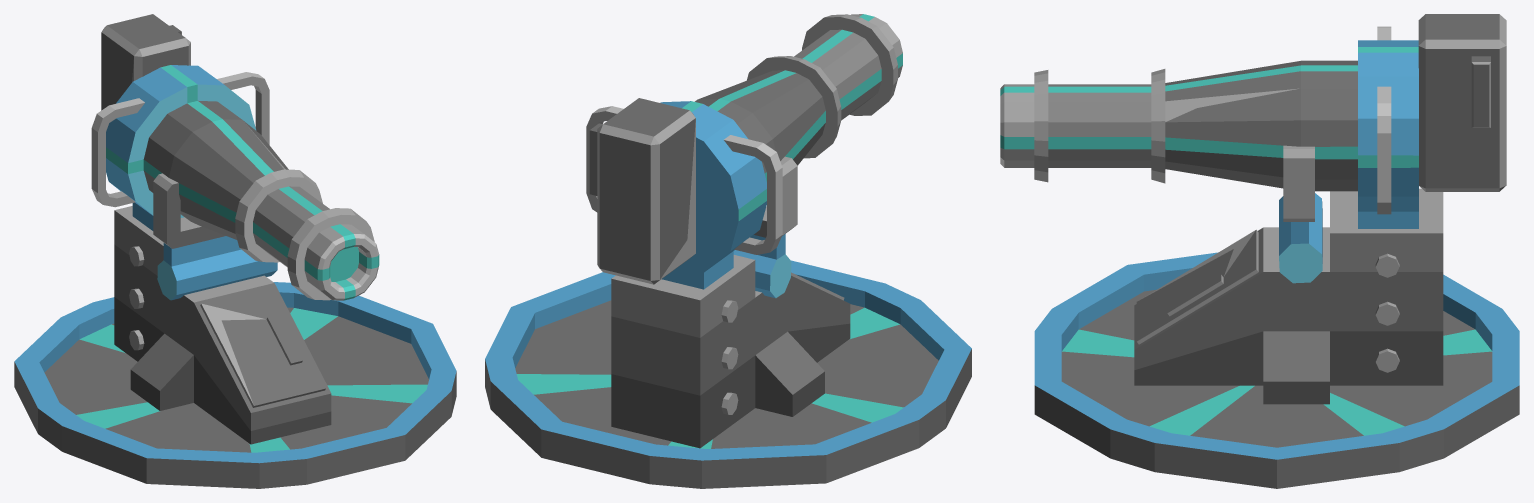
The model's file is tower_laser_blue_1.fbx.
3 renders of one model, left to right at view 1: azimuth 30°, elevation 25°; view 2: azimuth 150°, elevation 25°; view 3: azimuth 270°, elevation 25°, orthographic. The views are drawn at different scales.
Parts seen in each view (by area): view 1: top_laser_blue_1, tower_laser_blue_1; view 2: top_laser_blue_1, tower_laser_blue_1; view 3: top_laser_blue_1, tower_laser_blue_1.
Part boxes in pixels (box(x1,y1,x2,y2)): top_laser_blue_1: box(91, 14, 379, 444); tower_laser_blue_1: box(14, 282, 456, 488); top_laser_blue_1: box(586, 14, 902, 448); tower_laser_blue_1: box(485, 260, 971, 488); top_laser_blue_1: box(1000, 14, 1506, 404); tower_laser_blue_1: box(1034, 252, 1519, 488).
Size of the model in its own units: 142 by 110 by 148.
